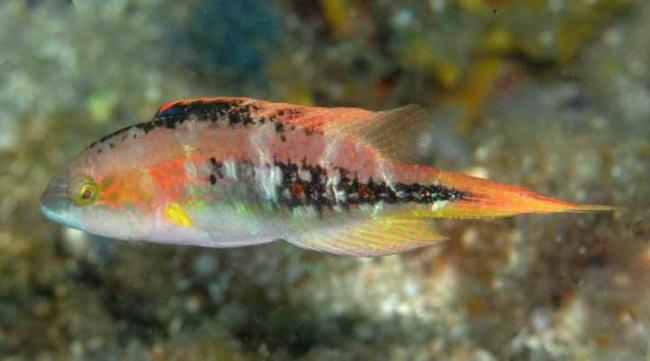fish: (39, 96, 626, 257)
